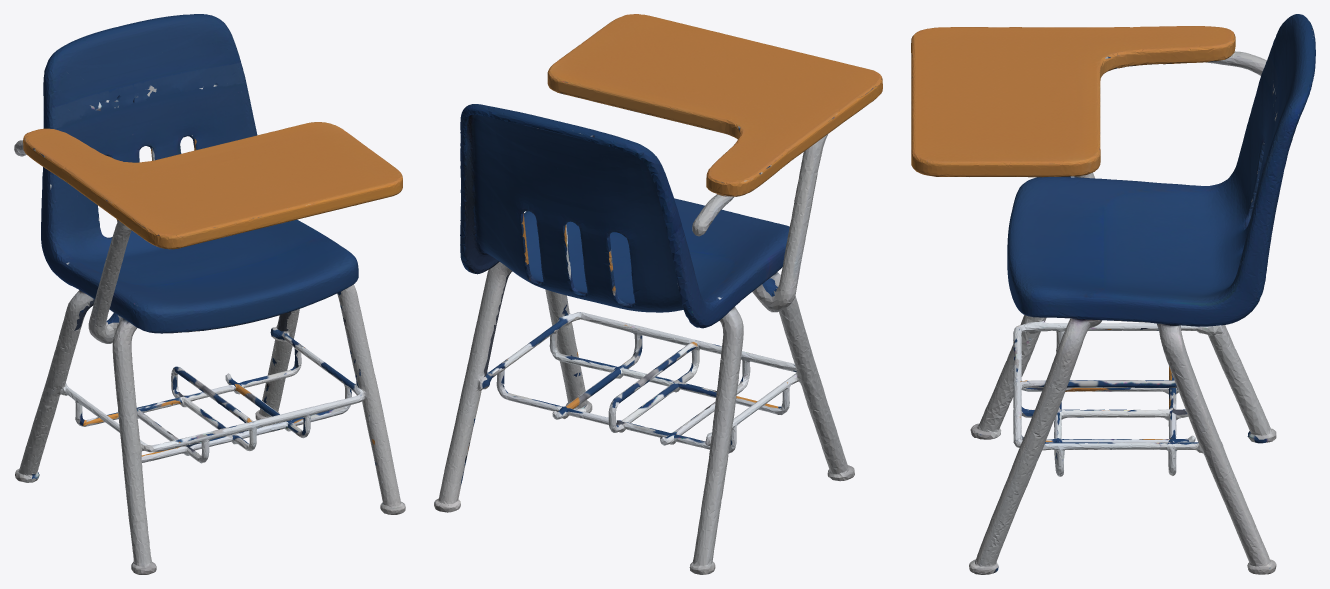
3 renders of one model, left to right at view 1: azimuth 30°, elevation 25°; view 2: azimuth 150°, elevation 25°; view 3: azimuth 270°, elevation 25°, orthographic. The views are drawn at different scales.
Visible parts, largest first — view 1: world; view 2: world; view 3: world.
Part boxes in pixels (<box>): world: <box>14,14,405,574</box>; world: <box>434,14,882,574</box>; world: <box>911,14,1315,574</box>.
Bounding box in the file's own units: 1.41 × 1.99 × 1.6.
Materials: 1 (1 with a texture image).
